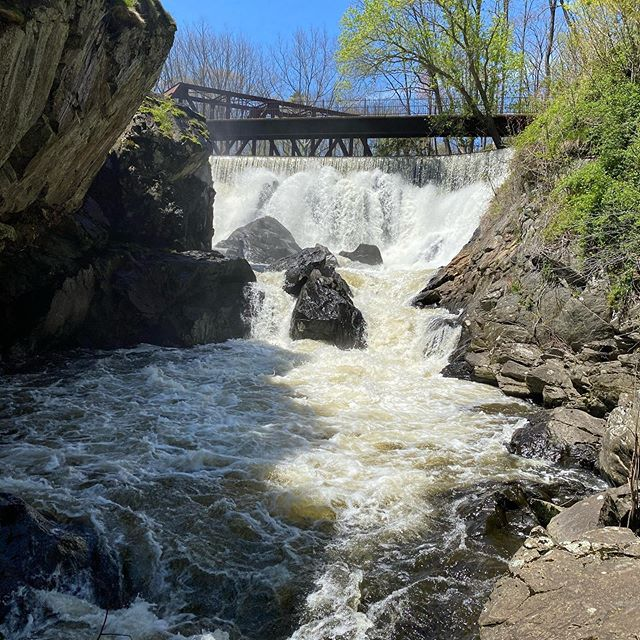rocks: (1, 29, 365, 363)
tree: (342, 1, 536, 141)
waterfall: (1, 135, 587, 620)
